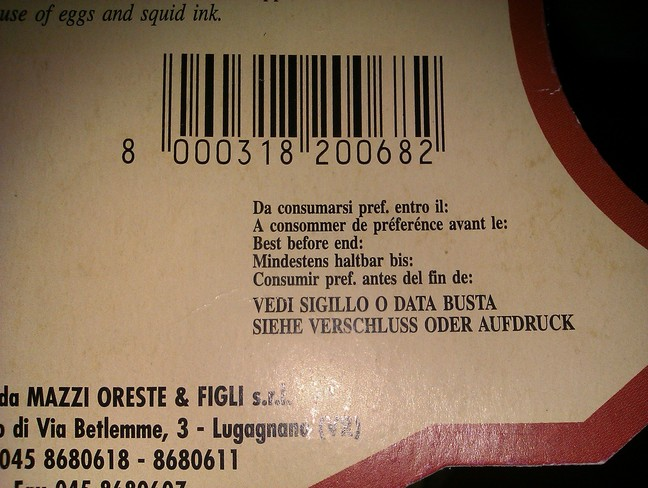barcode: (113, 45, 463, 178)
